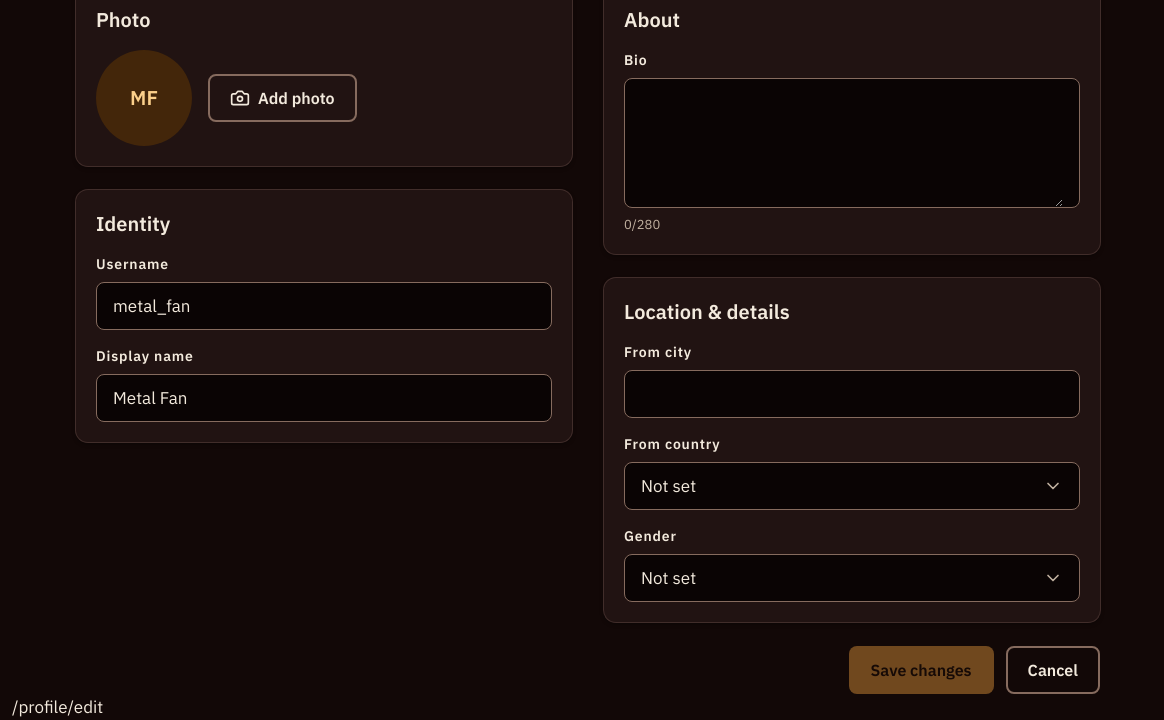
Test: cancel without changes returns to /profile without asking or saving
(page scrolled)
Click the button "Cancel" at (1053,670), box [1006,646,1100,694]
(page scrolled)
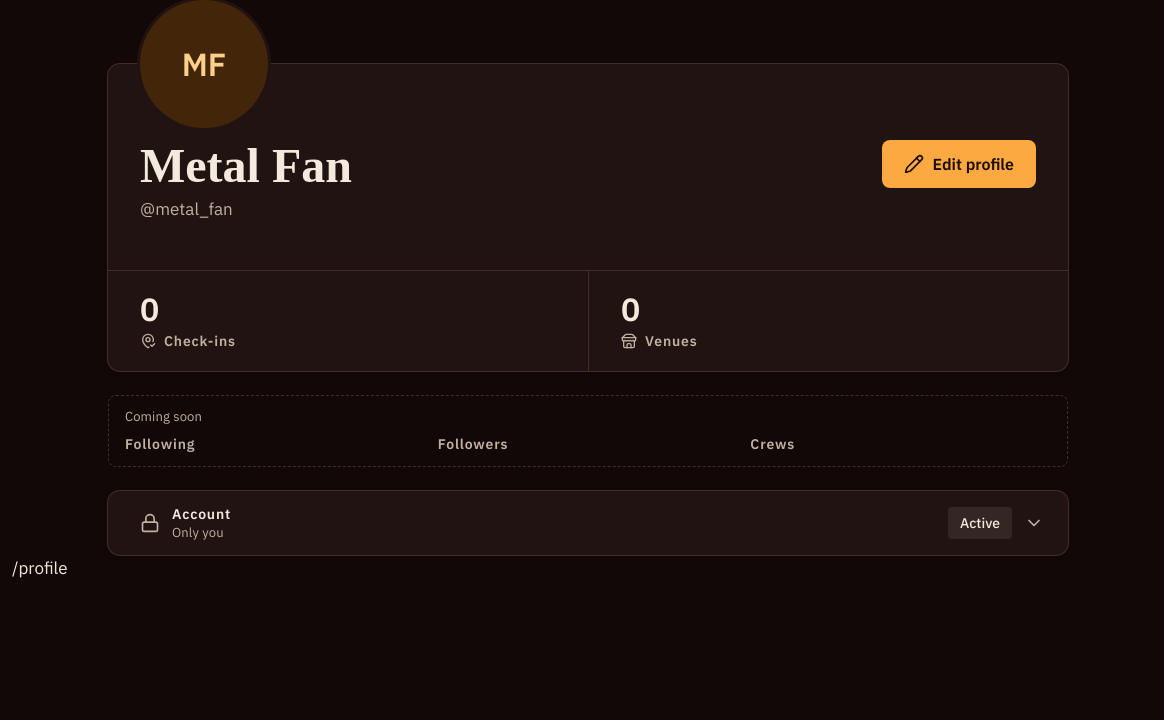
expect the text with test id "loc" reads "/profile": met, box [12,557,68,579]
